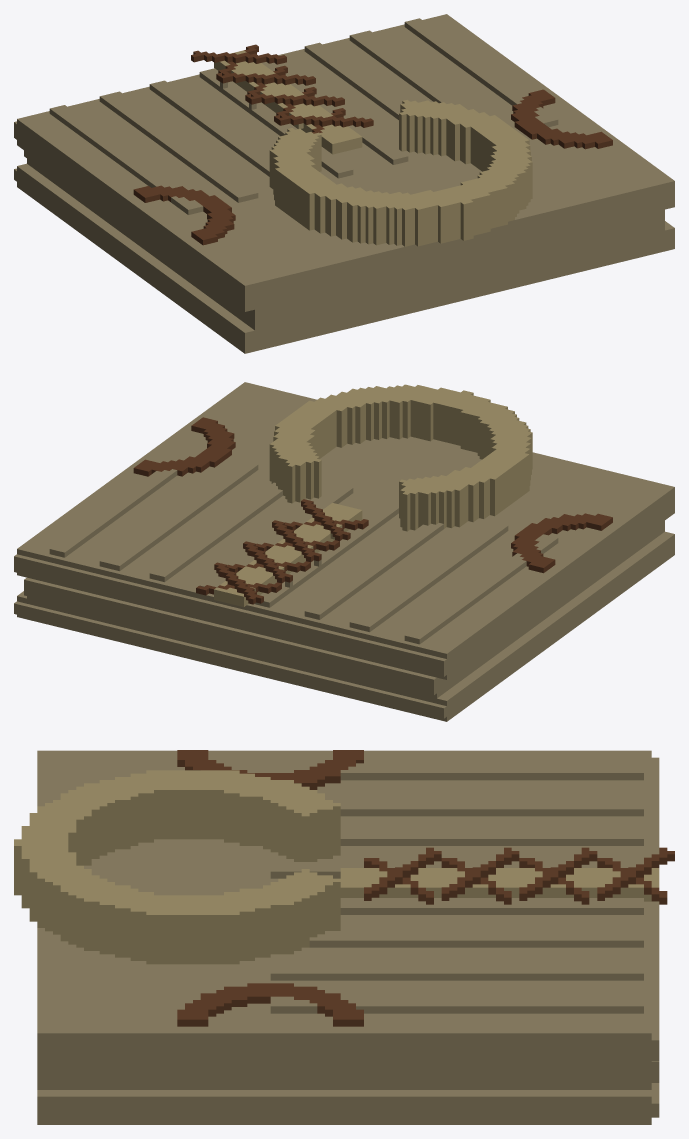
The model's file is aketon_canvas_vest.glb.
The picture shows the model from 3 angles, top to bottom: view 1: azimuth 30°, elevation 25°; view 2: azimuth 150°, elevation 25°; view 3: azimuth 270°, elevation 25°; orthographic projection. The views are drawn at different scales.
Parts seen in each view (by area): view 1: aketon_canvas_vest:compound; view 2: aketon_canvas_vest:compound; view 3: aketon_canvas_vest:compound.
Boxes of the visible parts, bbox=[...] form: aketon_canvas_vest:compound: bbox=[14, 14, 674, 353]; aketon_canvas_vest:compound: bbox=[14, 382, 674, 721]; aketon_canvas_vest:compound: bbox=[14, 750, 674, 1124].
Size of the model in its own units: 0.344 by 0.08 by 0.34.
